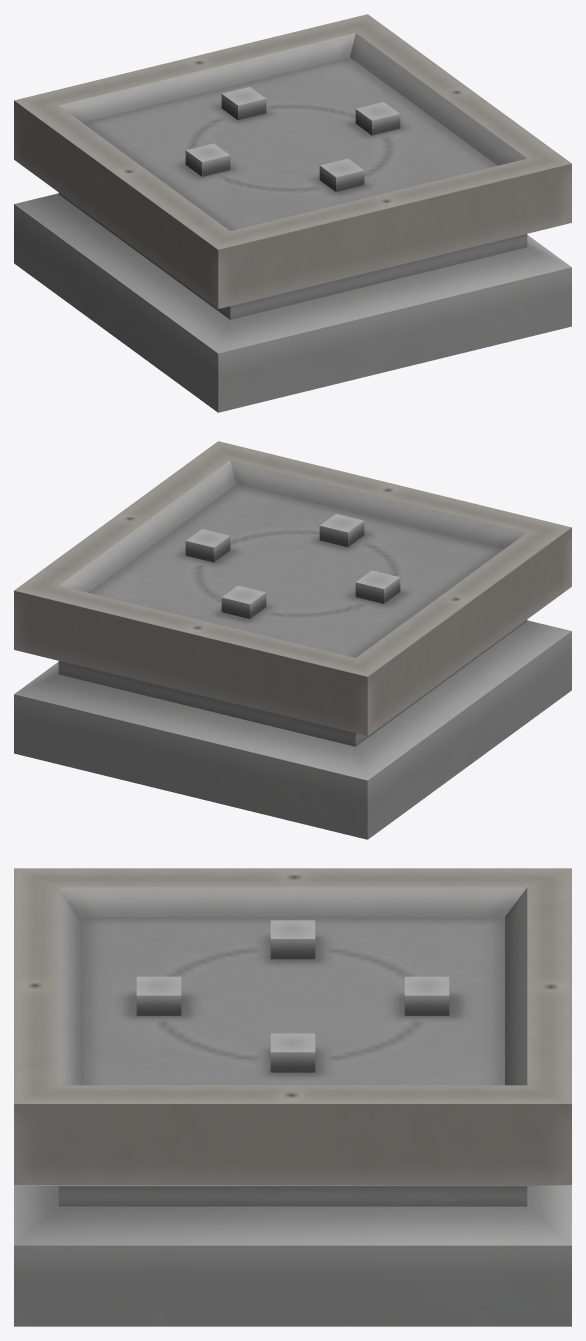
The model's file is Rana_Port_1.obj.
3 views of the same model, one above another, from view 1: azimuth 30°, elevation 25°; view 2: azimuth 150°, elevation 25°; view 3: azimuth 270°, elevation 25° (orthographic). The views are drawn at different scales.
Visible parts, largest first — view 1: Rana_Port_1; view 2: Rana_Port_1; view 3: Rana_Port_1.
Boxes of the visible parts, left/top/right/bottom form: Rana_Port_1: left=14, top=14, right=571, bottom=412; Rana_Port_1: left=14, top=441, right=571, bottom=839; Rana_Port_1: left=14, top=868, right=571, bottom=1326.
Size of the model in its own units: 0.3125 by 0.1375 by 0.3125.
